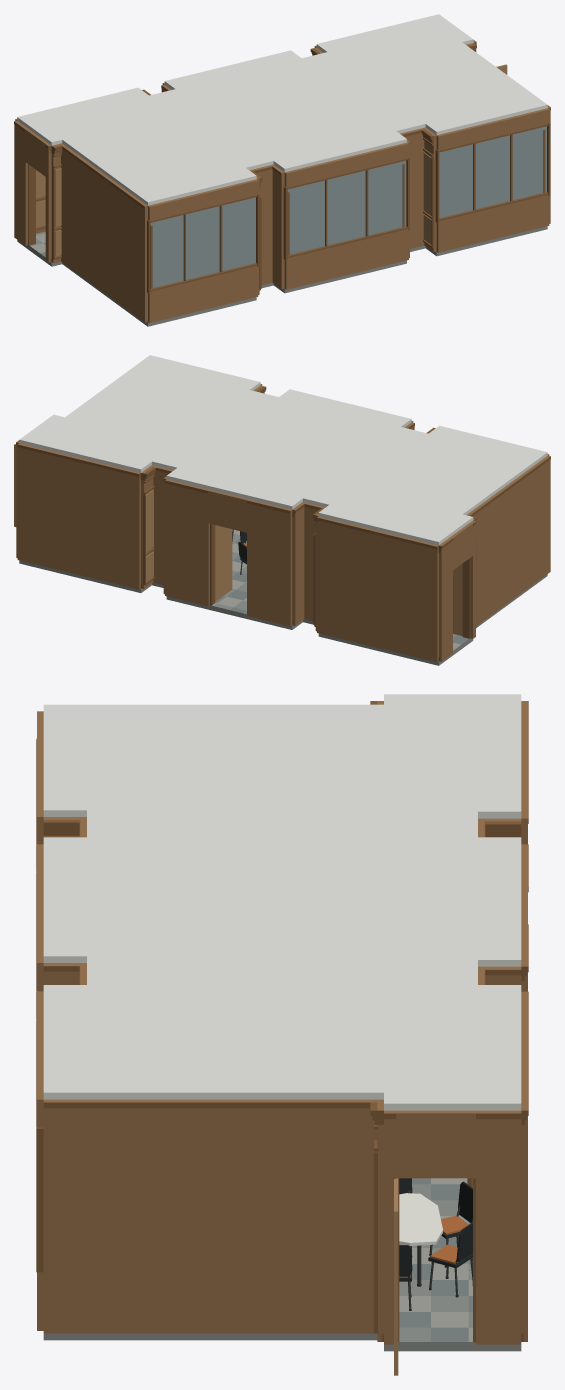
Rendered from clm-102-interior-e0ed9cf84f35.glb.
The picture shows the model from 3 angles, top to bottom: view 1: azimuth 30°, elevation 25°; view 2: azimuth 150°, elevation 25°; view 3: azimuth 270°, elevation 25°; orthographic projection. The views are drawn at different scales.
Parts seen in each view (by area): view 1: clm-102; view 2: clm-102; view 3: clm-102.
Boxes of the visible parts, box(x1,y1,x2,y2) form: clm-102: box(14, 14, 550, 326); clm-102: box(14, 355, 550, 665); clm-102: box(36, 694, 528, 1375).
Size of the model in its own units: 14.04 by 3.62 by 6.52.
